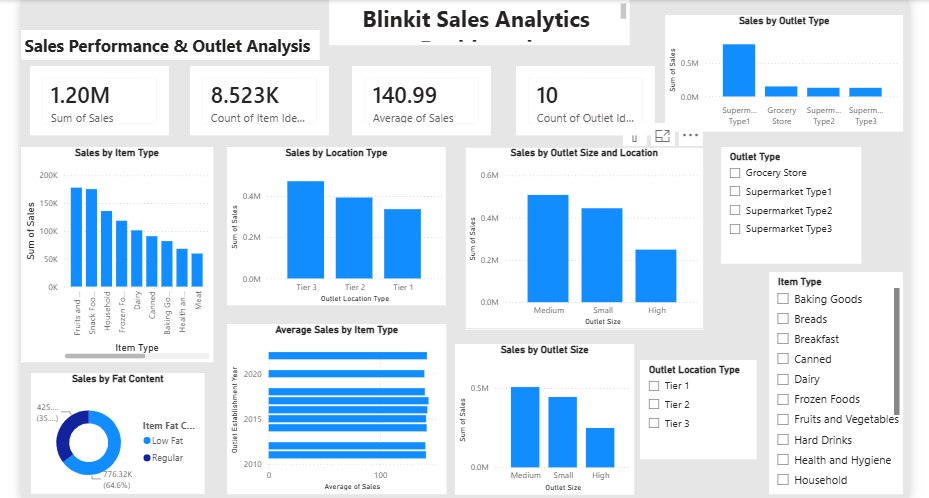

This screenshot's page, from the dashboard's own definition file:
{"tool":"powerbi","page":{"name":"Overview","canvas":[1280,720],"ordinal":0},"visuals":[{"type":"cardVisual","fields":{"Data":["Sum(blinkit_analysis blinkit_sales.Sales)"]},"box":[13.3,95,200,100],"z":0},{"type":"cardVisual","fields":{"Data":["CountNonNull(blinkit_analysis blinkit_sales.Item Identifier)"]},"box":[243.3,95,200,100],"z":1000},{"type":"cardVisual","fields":{"Data":["Avg(blinkit_analysis blinkit_sales.Sales)"]},"box":[476.7,95,200,100],"z":2000},{"type":"clusteredColumnChart","title":"Sales by Item Type","fields":{"Y":["Sum(blinkit_analysis blinkit_sales.Sales)"],"Category":["blinkit_analysis blinkit_sales.Item Type"]},"box":[0,211.7,276.7,310],"z":3000},{"type":"clusteredColumnChart","title":"Sales by Outlet Type","fields":{"Category":["blinkit_analysis blinkit_sales.Outlet Type"],"Y":["Sum(blinkit_analysis blinkit_sales.Sales)"]},"box":[926.7,21.7,343.3,168.3],"z":4000},{"type":"clusteredColumnChart","title":"Sales by Location Type","fields":{"Category":["blinkit_analysis blinkit_sales.Outlet Location Type"],"Y":["Sum(blinkit_analysis blinkit_sales.Sales)"]},"box":[296.7,211.7,315,228.3],"z":5000},{"type":"donutChart","title":"Sales by Fat Content","fields":{"Category":["blinkit_analysis blinkit_sales.Item Fat Content"],"Y":["Sum(blinkit_analysis blinkit_sales.Sales)"]},"box":[13.8,537.5,250,173.8],"z":6000},{"type":"clusteredColumnChart","title":"Sales by Outlet Size","fields":{"Category":["blinkit_analysis blinkit_sales.Outlet Size"],"Y":["Sum(blinkit_analysis blinkit_sales.Sales)"]},"box":[625,495,258.3,216.7],"z":7000},{"type":"clusteredBarChart","title":"Average Sales by Item Type","fields":{"Category":["blinkit_analysis blinkit_sales.Outlet Establishment Year","blinkit_analysis blinkit_sales.Item Type"],"Y":["Avg(blinkit_analysis blinkit_sales.Sales)"]},"box":[296.7,466.7,316.2,245],"z":8000},{"type":"clusteredColumnChart","title":"Sales by Outlet Size and Location","fields":{"Category":["blinkit_analysis blinkit_sales.Outlet Size"],"Y":["Sum(blinkit_analysis blinkit_sales.Sales)"]},"box":[640,211.7,343.8,262.5],"z":9000},{"type":"slicer","fields":{"Values":["blinkit_analysis blinkit_sales.Outlet Location Type"]},"box":[891.7,518.3,168.3,143.3],"z":10000},{"type":"slicer","fields":{"Values":["blinkit_analysis blinkit_sales.Outlet Type"]},"box":[1008.3,211.7,201.7,168.3],"z":11000},{"type":"slicer","fields":{"Values":["blinkit_analysis blinkit_sales.Item Type"]},"box":[1076.7,391.7,193.3,320],"z":12000},{"type":"textbox","box":[443.3,0,433.3,65],"z":13000},{"type":"cardVisual","fields":{"Data":["Count(blinkit_analysis blinkit_sales.Outlet Identifier)"]},"box":[713.3,95,200,100],"z":14000},{"type":"textbox","box":[0,43.3,430,43.3],"z":15000}]}

Visuals, with their boxes on the page's 1280x720 design canvas (x1, y1, x2, y2). These are canvas units, not pixel positions in the 929x498 screenshot, which may show the page scaled, cropped or inside an application window:
cardVisual - Sum(blinkit_analysis blinkit_sales.Sales): bbox=(13, 95, 213, 195)
cardVisual - CountNonNull(blinkit_analysis blinkit_sales.Item Identifier): bbox=(243, 95, 443, 195)
cardVisual - Avg(blinkit_analysis blinkit_sales.Sales): bbox=(477, 95, 677, 195)
"Sales by Item Type" clusteredColumnChart: bbox=(0, 212, 277, 522)
"Sales by Outlet Type" clusteredColumnChart: bbox=(927, 22, 1270, 190)
"Sales by Location Type" clusteredColumnChart: bbox=(297, 212, 612, 440)
"Sales by Fat Content" donutChart: bbox=(14, 538, 264, 711)
"Sales by Outlet Size" clusteredColumnChart: bbox=(625, 495, 883, 712)
"Average Sales by Item Type" clusteredBarChart: bbox=(297, 467, 613, 712)
"Sales by Outlet Size and Location" clusteredColumnChart: bbox=(640, 212, 984, 474)
slicer - blinkit_analysis blinkit_sales.Outlet Location Type: bbox=(892, 518, 1060, 662)
slicer - blinkit_analysis blinkit_sales.Outlet Type: bbox=(1008, 212, 1210, 380)
slicer - blinkit_analysis blinkit_sales.Item Type: bbox=(1077, 392, 1270, 712)
textbox: bbox=(443, 0, 877, 65)
cardVisual - Count(blinkit_analysis blinkit_sales.Outlet Identifier): bbox=(713, 95, 913, 195)
textbox: bbox=(0, 43, 430, 87)
